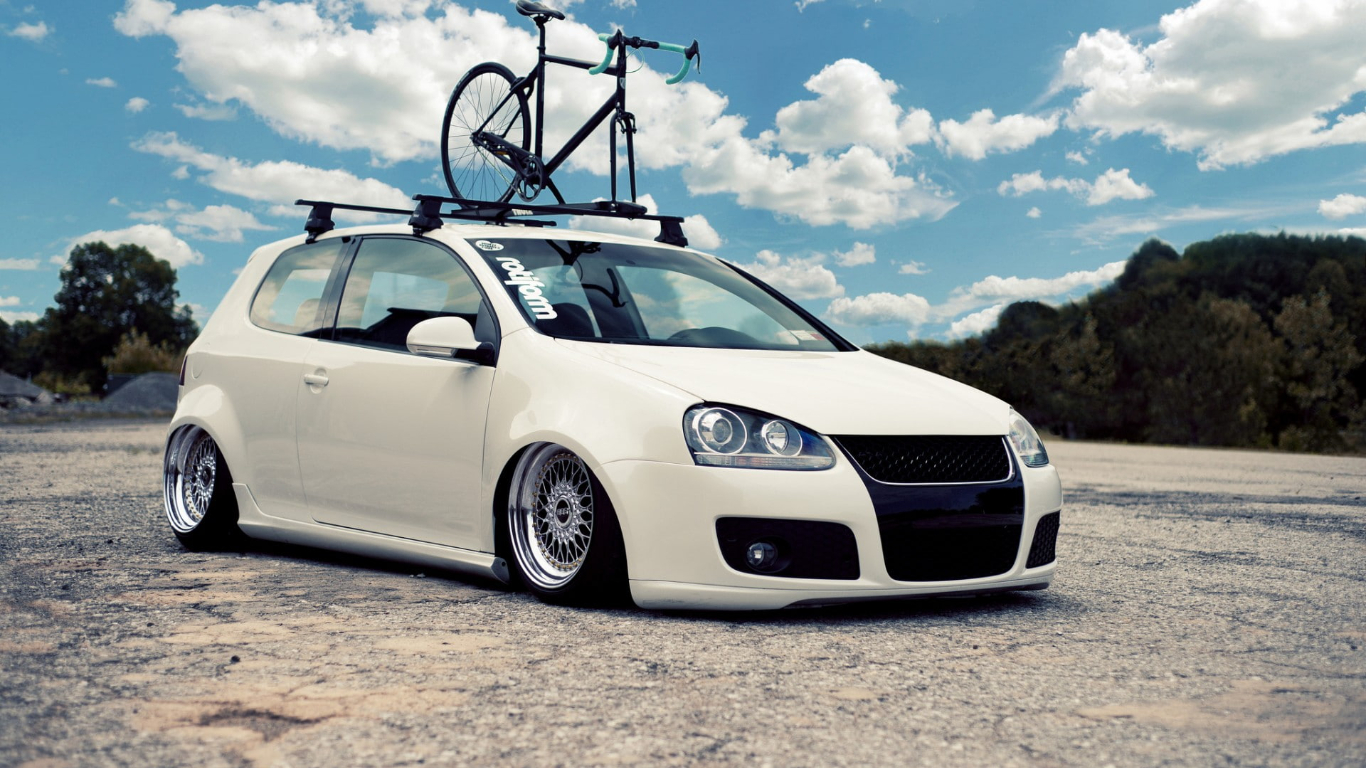Bycycle: (436, 1, 724, 211)
Car: (165, 190, 1065, 615)
